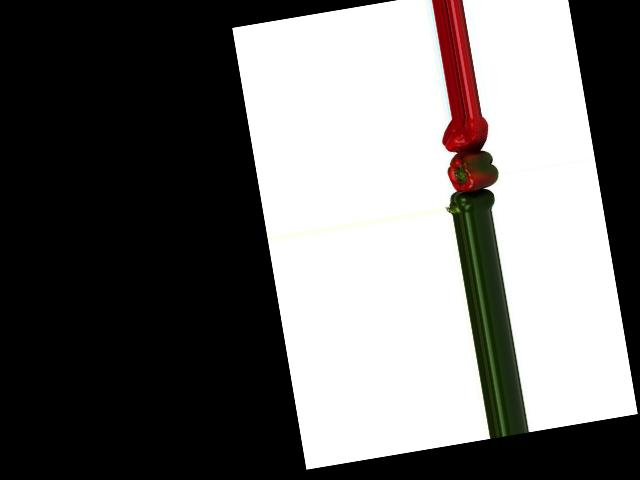bell_pepper: (435, 113, 494, 157)
